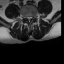CCS_normal: (28, 15, 30, 23)
LFS_severe_stenosis: (32, 14, 34, 19)
LLS_stenosis: (30, 15, 32, 20)
RFS_severe_stenosis: (24, 14, 26, 20)
RLS_stenosis: (26, 15, 28, 20)
